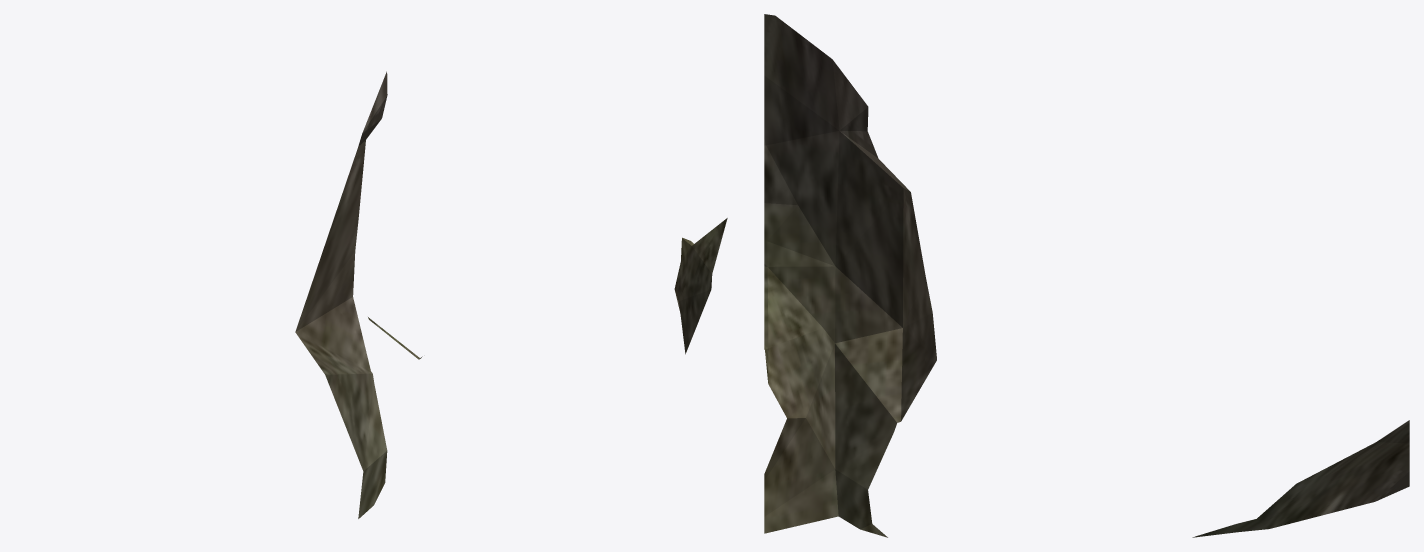
3 renders of one model, left to right at view 1: azimuth 30°, elevation 25°; view 2: azimuth 150°, elevation 25°; view 3: azimuth 270°, elevation 25°, orthographic. The views are drawn at different scales.
Bounding box in the file's own units: 0.5569 × 2.64 × 2.95.
1 material, 1 textured.
